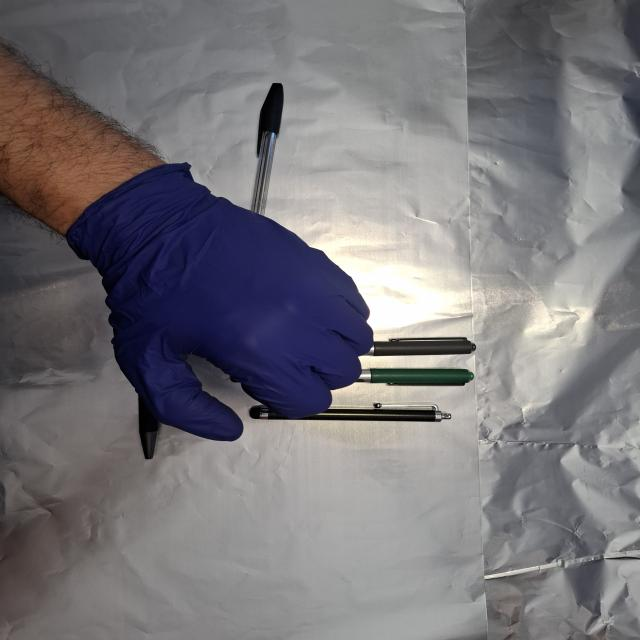glove_on: (72, 162, 378, 443)
